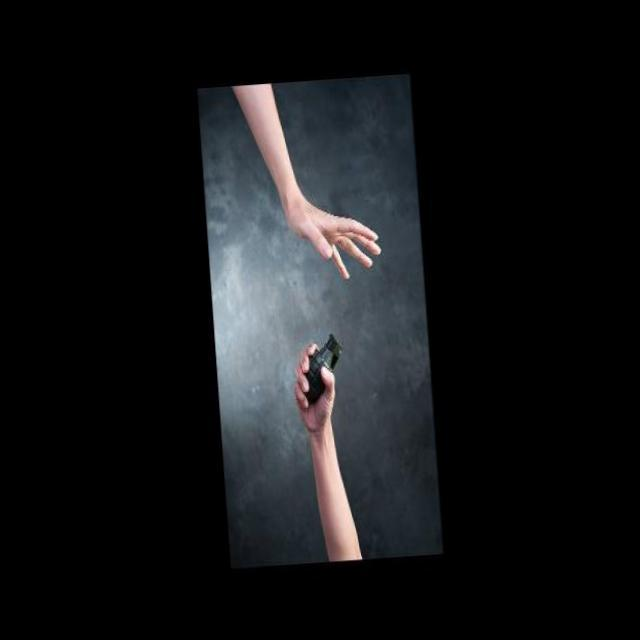grenade: (299, 318, 348, 412)
